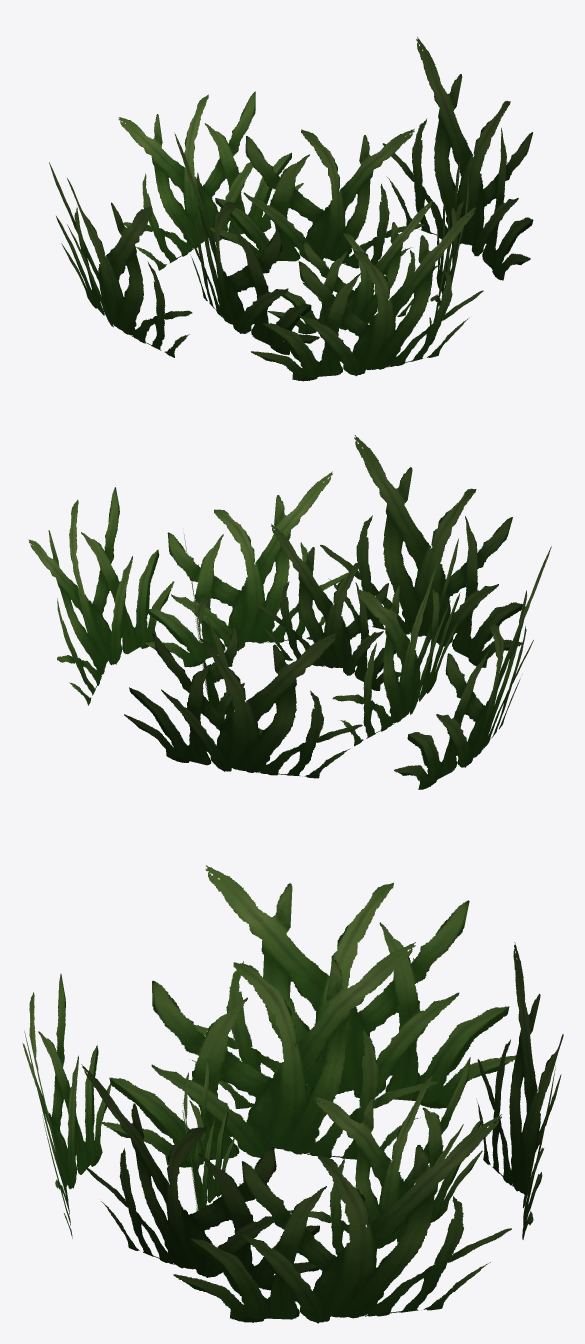
The model's file is TRANS_UDC_Grass.obj.
3 views of the same model, one above another, from view 1: azimuth 30°, elevation 25°; view 2: azimuth 150°, elevation 25°; view 3: azimuth 270°, elevation 25° (orthographic). The views are drawn at different scales.
Visible parts, largest first — view 1: TRANS_UDC_Grass; view 2: TRANS_UDC_Grass; view 3: TRANS_UDC_Grass.
Boxes of the visible parts, left/top/right/bottom form: TRANS_UDC_Grass: left=49, top=37, right=533, bottom=381; TRANS_UDC_Grass: left=28, top=435, right=551, bottom=789; TRANS_UDC_Grass: left=22, top=865, right=563, bottom=1323.
Size of the model in its own units: 0.08 by 0.0321 by 0.0677.
